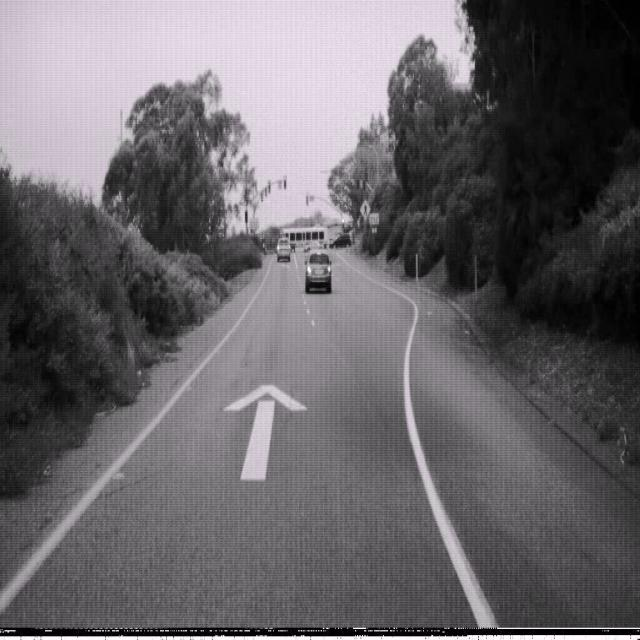pedestrianCrossing: (359, 196, 371, 222)
